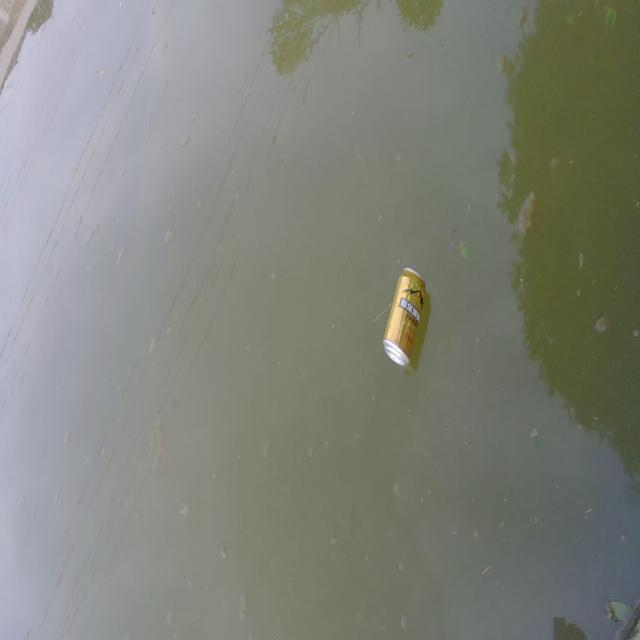garbage: (382, 266, 428, 368)
